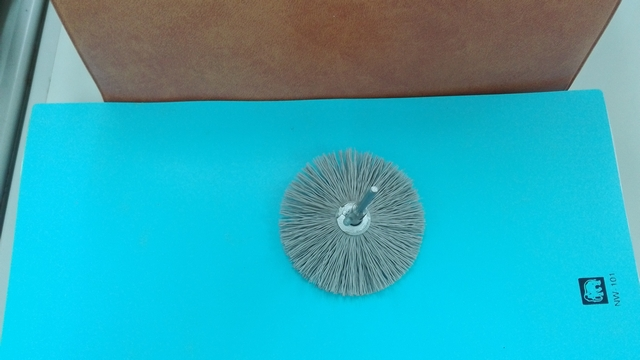TOOL: (247, 133, 458, 301), (277, 159, 428, 294)
